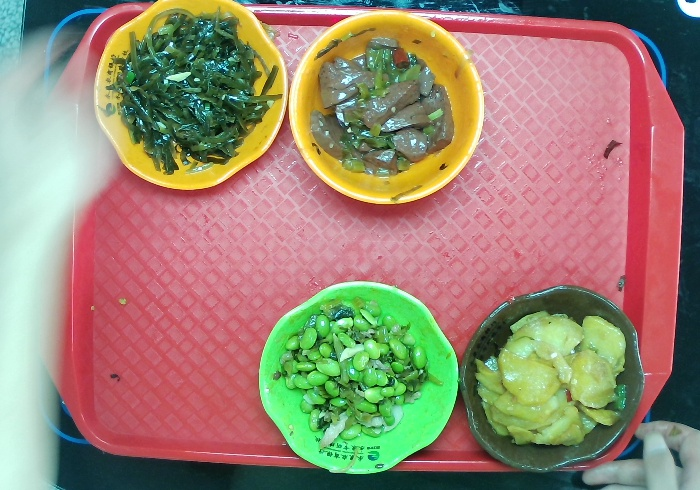YKMZ-Ju_Se_Ao_Bian_Wan: (92, 1, 290, 197)
YKMZ-Ju_Se_Yuan_Wan: (287, 9, 495, 213)
YKMZ-Ka_Fei_Ao_Bian_Wan: (456, 276, 648, 483)
YKMZ-Lv_Se_Ao_Bian_Wan: (252, 272, 464, 482)
